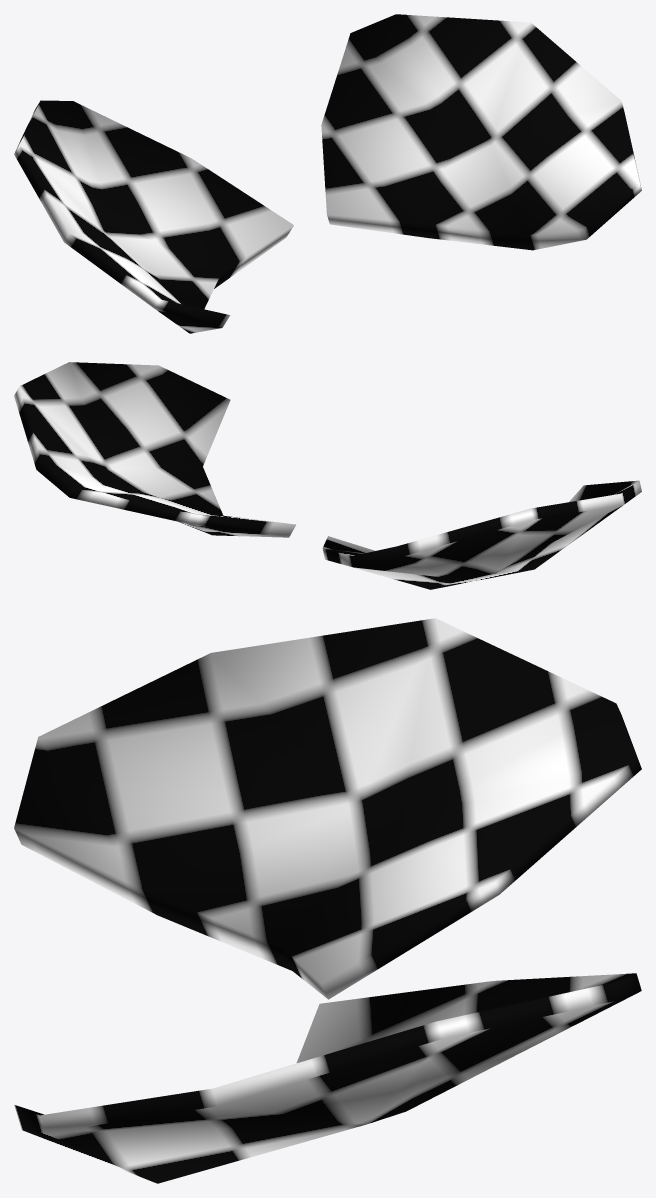
File: initlitr18.dae
3 renders of one model, top to bottom at view 1: azimuth 30°, elevation 25°; view 2: azimuth 150°, elevation 25°; view 3: azimuth 270°, elevation 25°, orthographic. The views are drawn at different scales.
Parts seen in each view (by area): view 1: item; view 2: item; view 3: item.
Part boxes in pixels (x1,y1,x2,y2): item: (14,14,641,333); item: (14,362,641,589); item: (14,618,641,1183).
Size of the model in its own units: 1.69 by 1.03 by 0.4328.
Materials: 1 (1 with a texture image).
